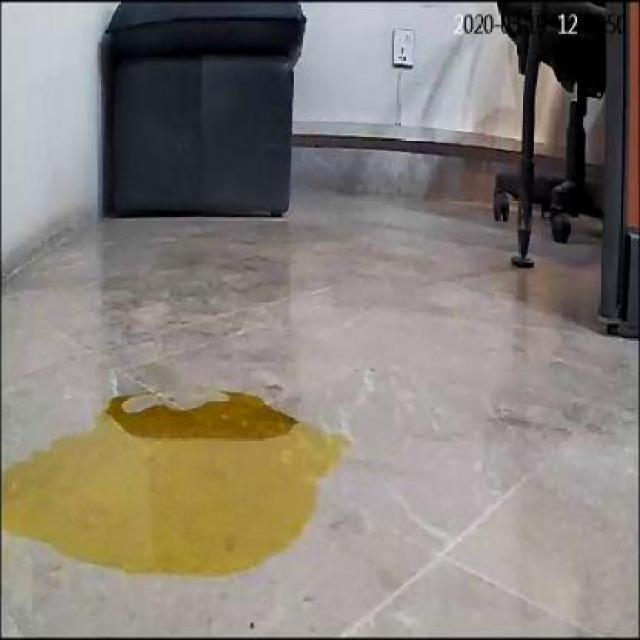spill: (9, 390, 346, 575)
